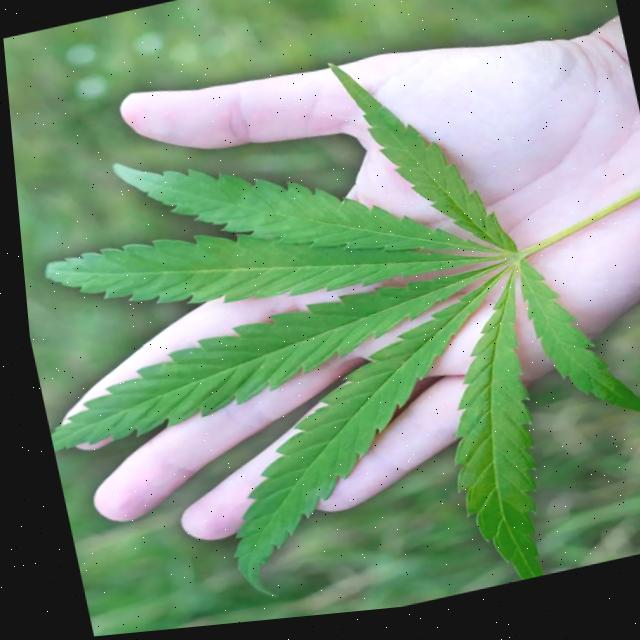cannabis: (45, 61, 640, 595)
